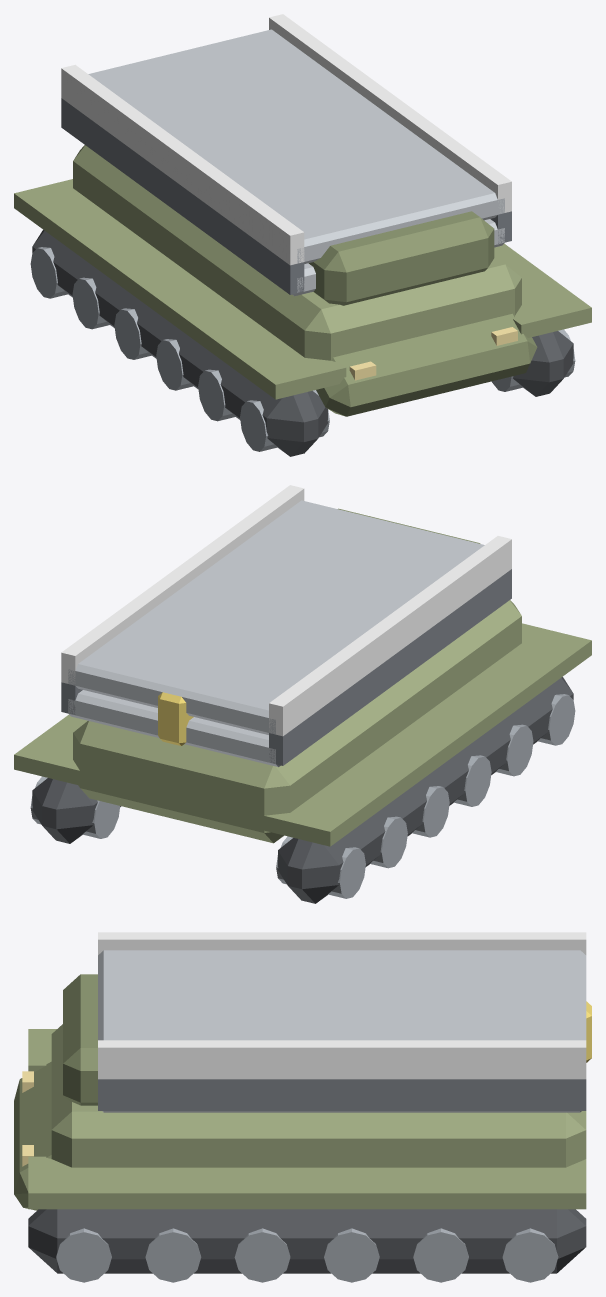
Rendered from bridgelayer.glb.
3 renders of one model, top to bottom at view 1: azimuth 30°, elevation 25°; view 2: azimuth 150°, elevation 25°; view 3: azimuth 270°, elevation 25°, orthographic. The views are drawn at different scales.
Parts seen in each view (by area): view 1: main; view 2: main; view 3: main.
Boxes of the visible parts, x1,y1,x2,y2 form: main: (14,14,591,456); main: (14,485,591,903); main: (14,932,591,1282).
Size of the model in its own units: 0.67 by 0.41 by 0.9946.
